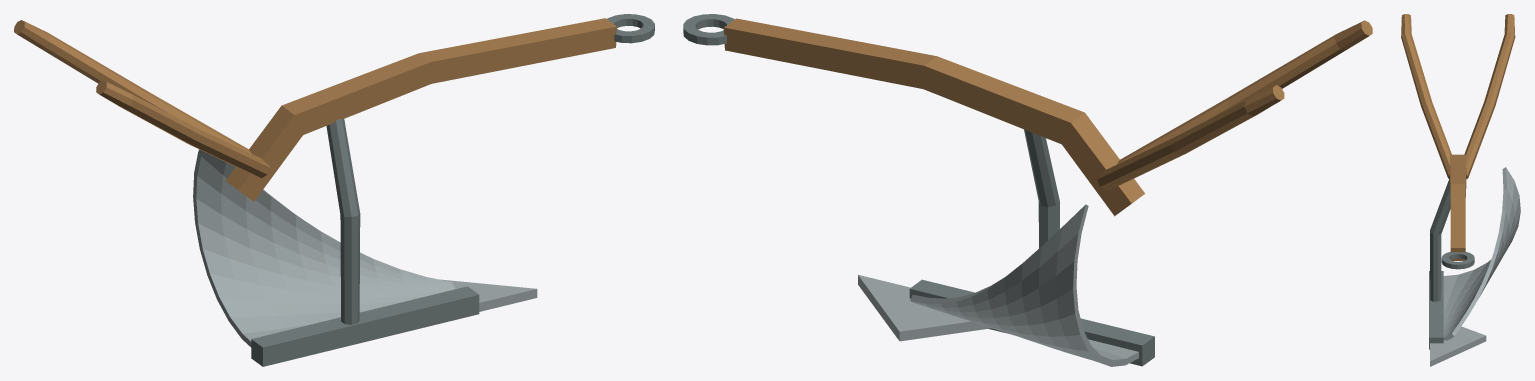
3 renders of one model, left to right at view 1: azimuth 30°, elevation 25°; view 2: azimuth 150°, elevation 25°; view 3: azimuth 270°, elevation 25°, orthographic. The views are drawn at different scales.
Parts seen in each view (by area): view 1: WholeContinuouslyCurlingMouldboard, WholeArchedForwardTimberDrawbeam, WholeLowLandsideRunner, WholeBentMetalStandard, WholeCurvedRearHandle1, WholeCurvedRearHandle2, WholeFiniteTriangularShare, WholeOpenDrawbeamEndRing; view 2: WholeArchedForwardTimberDrawbeam, WholeContinuouslyCurlingMouldboard, WholeCurvedRearHandle2, WholeCurvedRearHandle1, WholeFiniteTriangularShare, WholeLowLandsideRunner, WholeBentMetalStandard, WholeOpenDrawbeamEndRing; view 3: WholeContinuouslyCurlingMouldboard, WholeCurvedRearHandle2, WholeCurvedRearHandle1, WholeArchedForwardTimberDrawbeam, WholeBentMetalStandard, WholeFiniteTriangularShare, WholeLowLandsideRunner, WholeOpenDrawbeamEndRing.
Part boxes in pixels (x1,y1,x2,y2): WholeContinuouslyCurlingMouldboard: (193,149,455,347); WholeArchedForwardTimberDrawbeam: (225,18,616,201); WholeLowLandsideRunner: (251,286,479,366); WholeBentMetalStandard: (326,118,360,324); WholeCurvedRearHandle1: (96,80,269,177); WholeCurvedRearHandle2: (14,20,251,153); WholeFiniteTriangularShare: (439,279,537,311); WholeOpenDrawbeamEndRing: (607,14,654,43); WholeArchedForwardTimberDrawbeam: (724,18,1144,216); WholeContinuouslyCurlingMouldboard: (910,204,1138,366); WholeCurvedRearHandle2: (1097,85,1284,190); WholeCurvedRearHandle1: (1117,20,1372,164); WholeFiniteTriangularShare: (858,274,990,341); WholeLowLandsideRunner: (909,279,1154,366); WholeBentMetalStandard: (1024,129,1059,248); WholeOpenDrawbeamEndRing: (683,14,734,45); WholeContinuouslyCurlingMouldboard: (1443,167,1520,340); WholeCurvedRearHandle2: (1464,14,1515,178); WholeCurvedRearHandle1: (1401,14,1451,178); WholeArchedForwardTimberDrawbeam: (1450,154,1466,260); WholeBentMetalStandard: (1430,178,1450,301); WholeFiniteTriangularShare: (1430,326,1486,366); WholeLowLandsideRunner: (1429,271,1443,349); WholeOpenDrawbeamEndRing: (1441,251,1474,269).
Size of the model in its own units: 1.92 by 1.06 by 0.5326.
